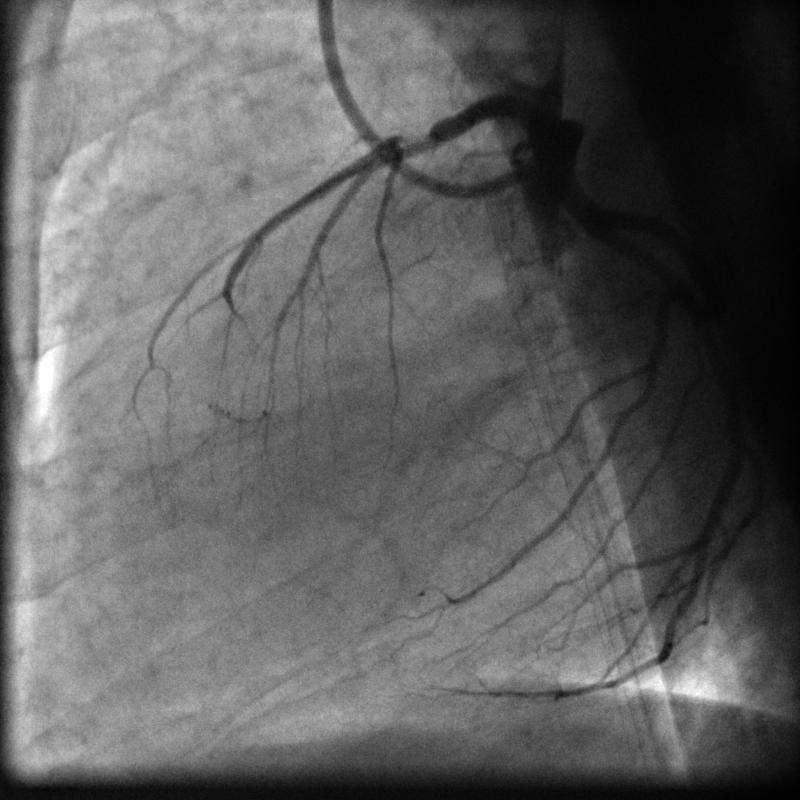Stenosis: (389, 125, 445, 163)
